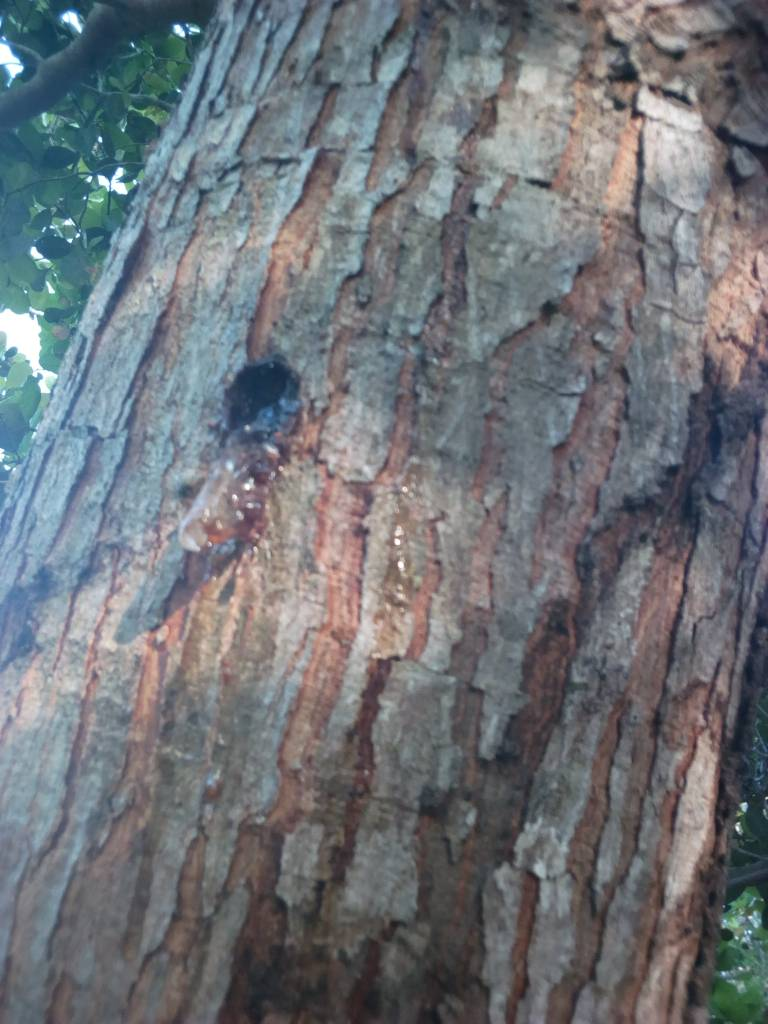Apate terebrans: (204, 349, 333, 472)
